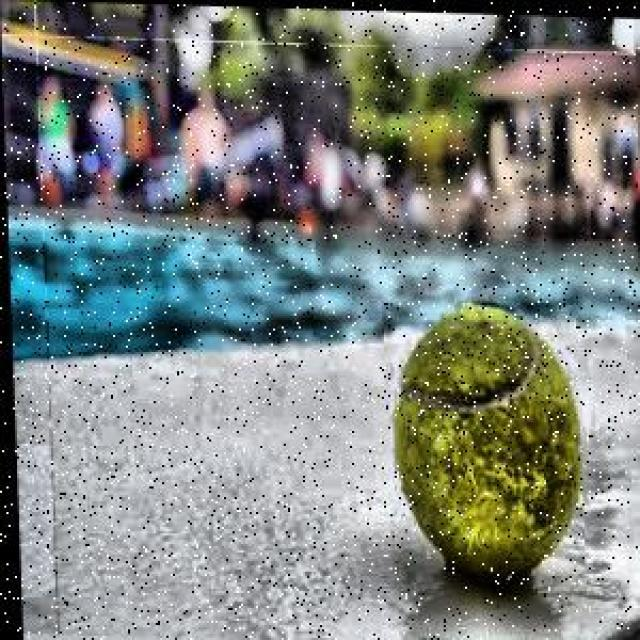tennis-ball: (380, 298, 586, 584)
